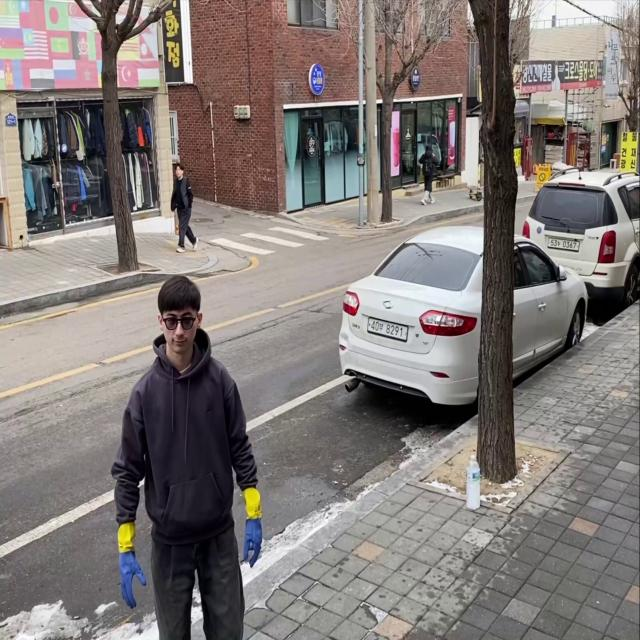gloved_hand: (117, 548, 150, 610), (241, 514, 269, 569)
